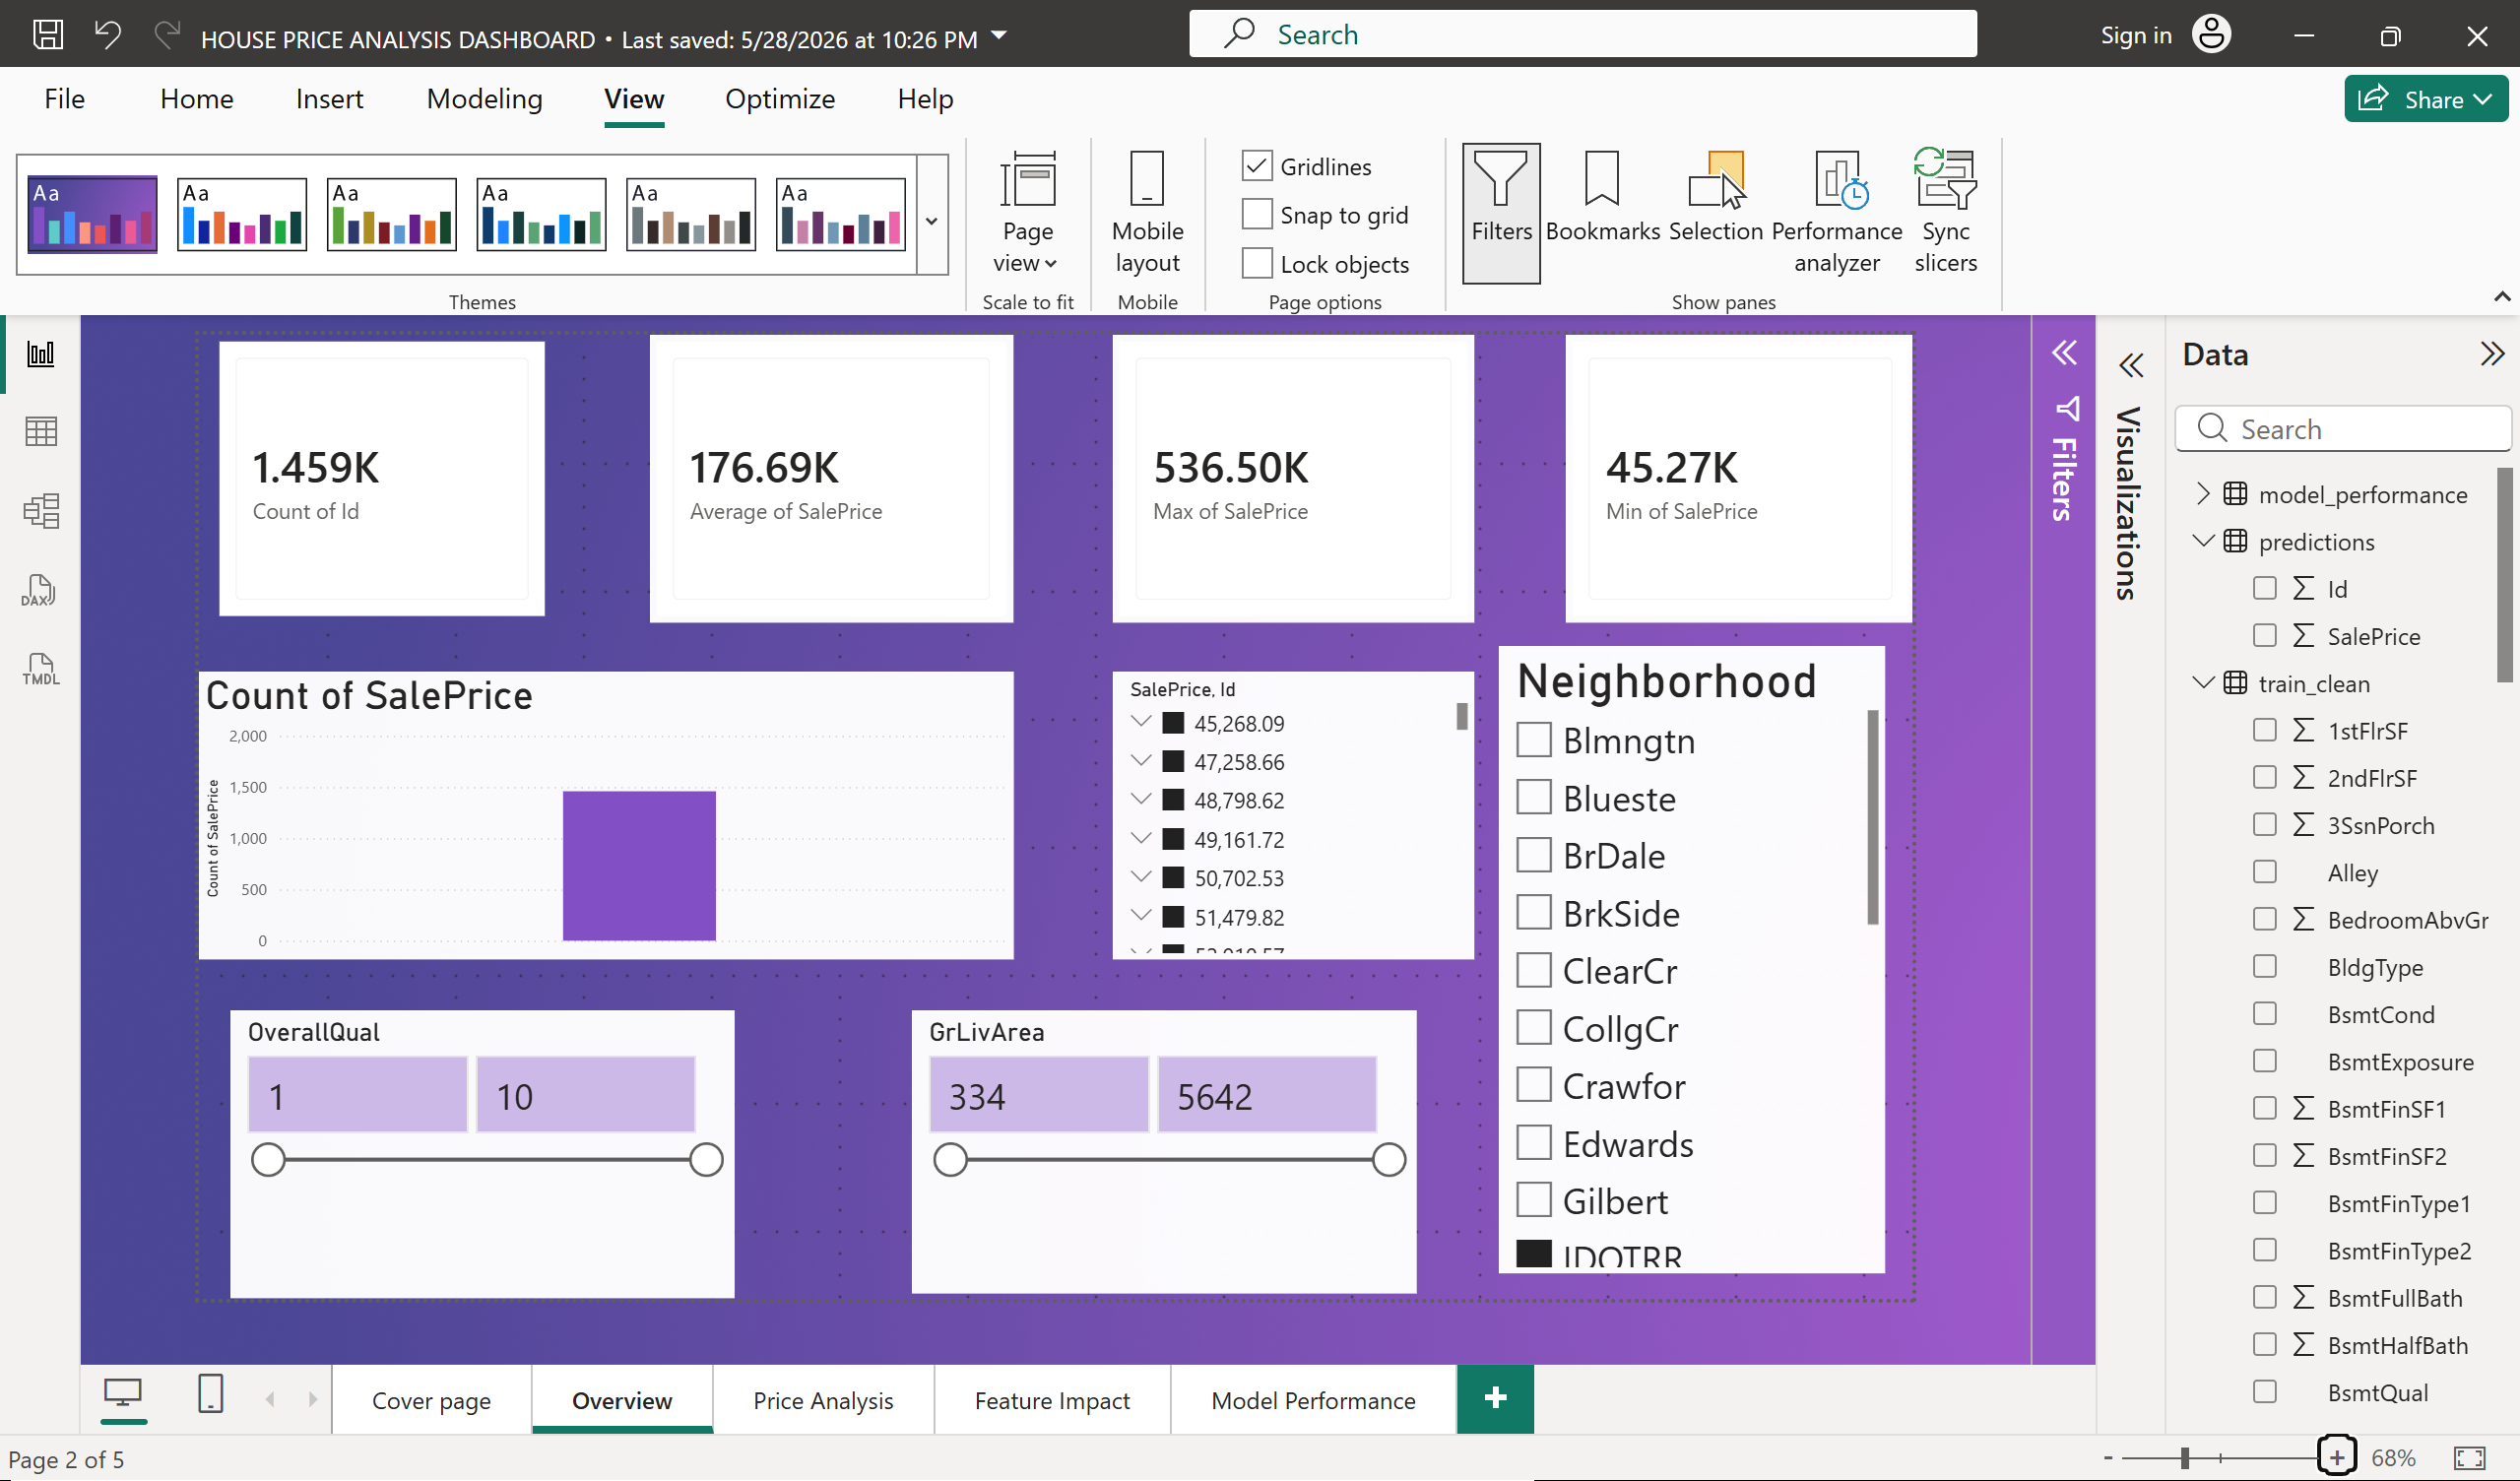

The page's visual inventory and layout, read from the dashboard file:
{"tool":"powerbi","page":{"name":"Page 1","canvas":[1280,720],"ordinal":0},"visuals":[{"type":"cardVisual","fields":{"Data":["CountNonNull(predictions.Id)"]},"box":[10,0,253.3,215],"z":0},{"type":"cardVisual","fields":{"Data":["Avg(predictions.SalePrice)"]},"box":[336.7,0,271.7,215],"z":1000},{"type":"cardVisual","fields":{"Data":["Max(predictions.SalePrice)"]},"box":[681.7,0,270,215],"z":2000},{"type":"cardVisual","fields":{"Data":["Min(predictions.SalePrice)"]},"box":[1020,0,261.7,215],"z":3000},{"type":"columnChart","fields":{"Y":["CountNonNull(predictions.SalePrice)"]},"box":[168.3,253.3,608.3,215],"z":4000},{"type":"slicer","fields":{"Values":["train_clean.Neighborhood"]},"box":[993.3,253.3,288.3,468.3],"z":5000},{"type":"slicer","fields":{"Values":["train_clean.OverallQual"]},"box":[23.3,505,376.7,215],"z":6000},{"type":"slicer","fields":{"Values":["train_clean.GrLivArea"]},"box":[511.7,510,376.7,210],"z":7000}]}

Visuals, with their boxes on the page's 1280x720 design canvas (x1, y1, x2, y2). These are canvas units, not pixel positions in the 2520x1481 screenshot, which may show the page scaled, cropped or inside an application window:
cardVisual - CountNonNull(predictions.Id): 10 0 263 215
cardVisual - Avg(predictions.SalePrice): 337 0 608 215
cardVisual - Max(predictions.SalePrice): 682 0 952 215
cardVisual - Min(predictions.SalePrice): 1020 0 1282 215
columnChart - CountNonNull(predictions.SalePrice): 168 253 777 468
slicer - train_clean.Neighborhood: 993 253 1282 722
slicer - train_clean.OverallQual: 23 505 400 720
slicer - train_clean.GrLivArea: 512 510 888 720
